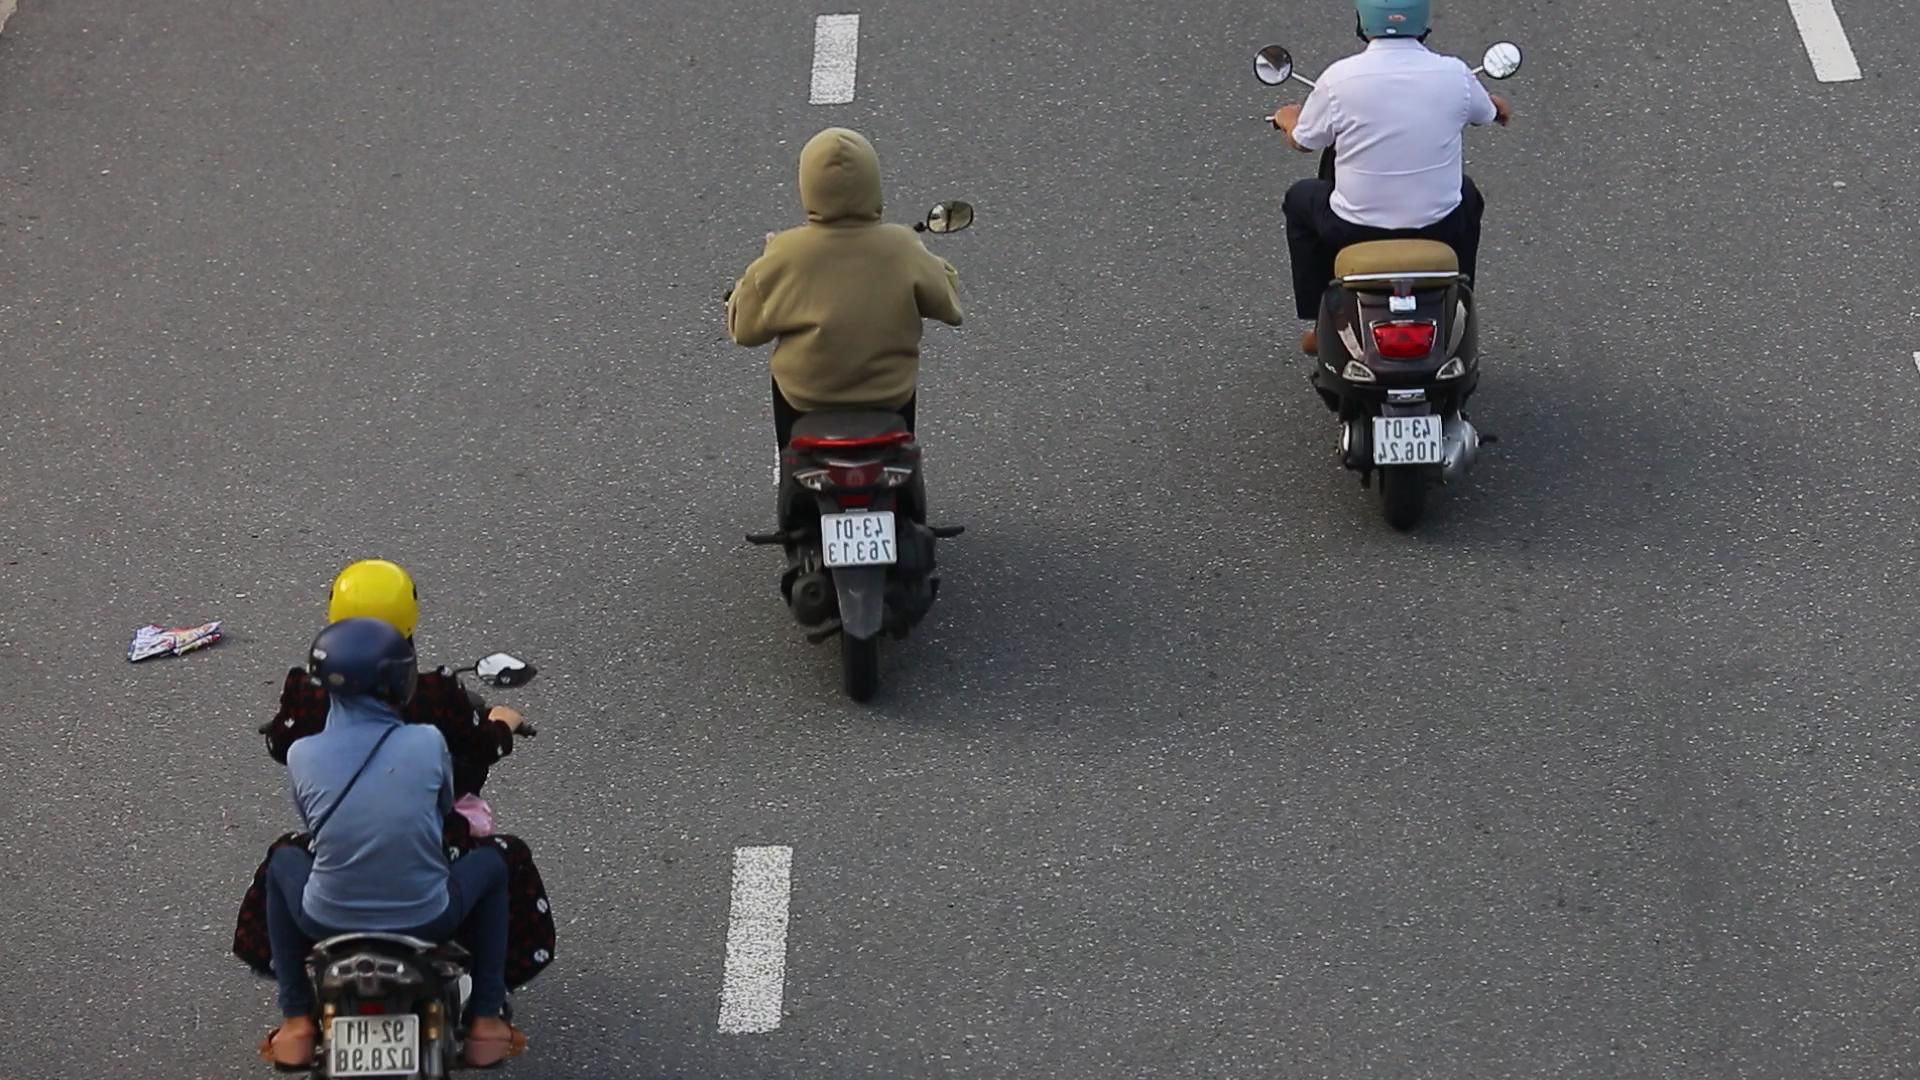motobike: (218, 566, 570, 1077), (713, 116, 984, 704)
